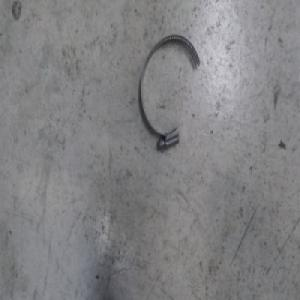AdjustableClamp: (138, 33, 201, 152)
